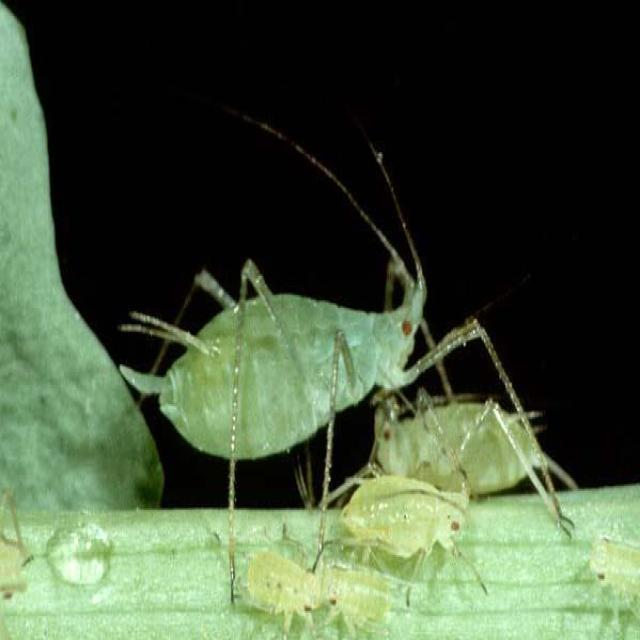aphid: (90, 164, 432, 450), (368, 367, 554, 497), (333, 457, 478, 573), (231, 526, 323, 634)
